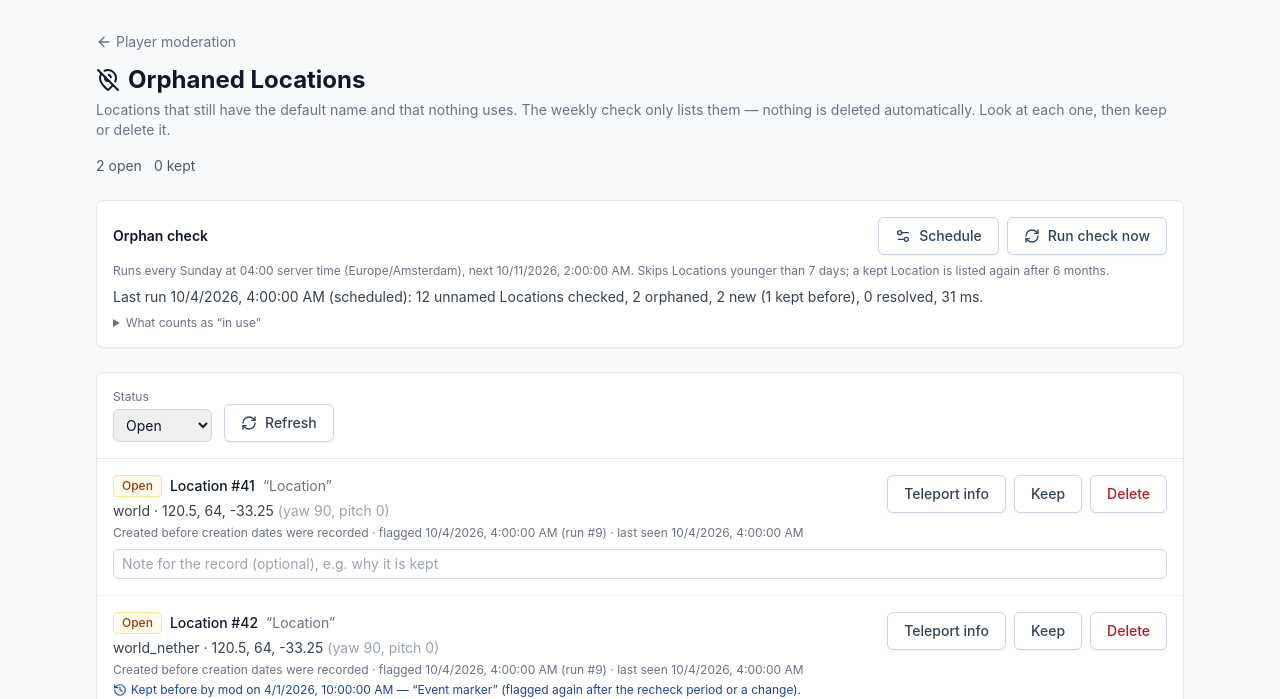
it: LocationRetentionPage › explains a refused delete when the server re-check found a relation
This screenshot has width=1280, height=699.
Check: the text "Location #41" is shown, box [170,476,255,496]
What coordinates should you click on to do the following:
click the button with aria-label "Delete Location 41"
I would click on:
 (1129, 494)
Its box is [1090,475,1167,513].
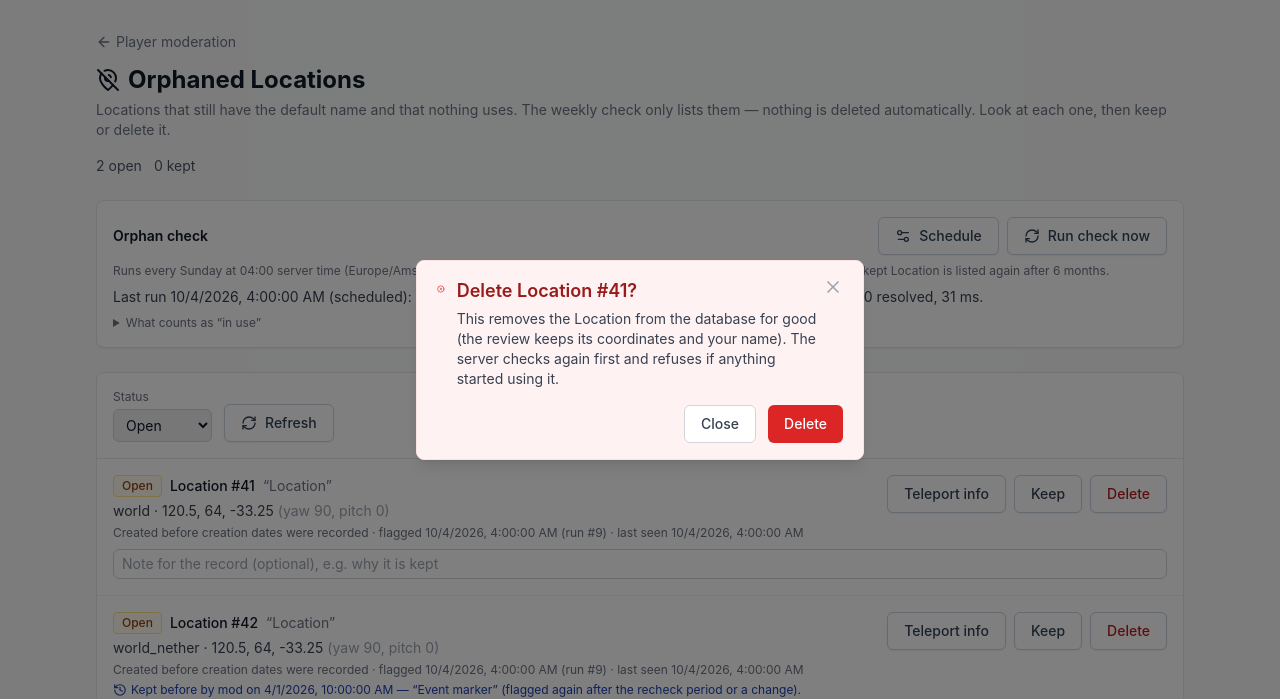
What coordinates should you click on to do the following:
click the button "Delete"
I would click on:
 (806, 424)
Its box is [768,405,843,443].
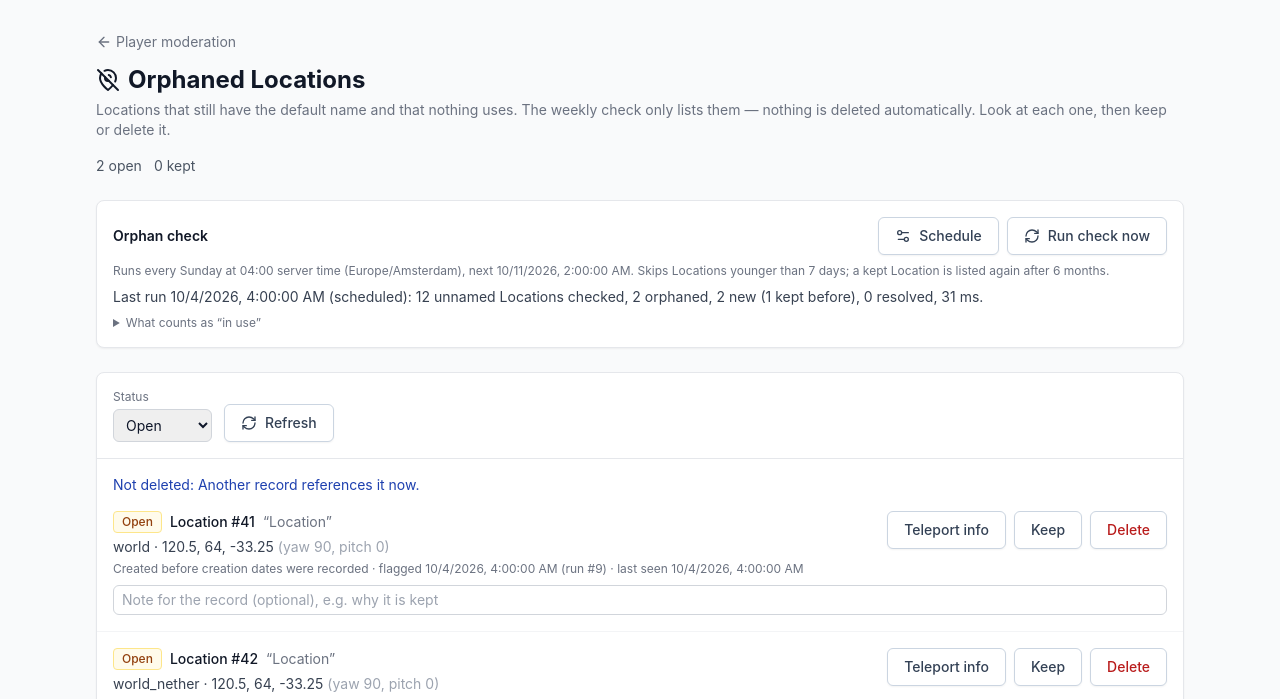
Check: the message shows "Another record references it now.", box [113,476,420,493]
